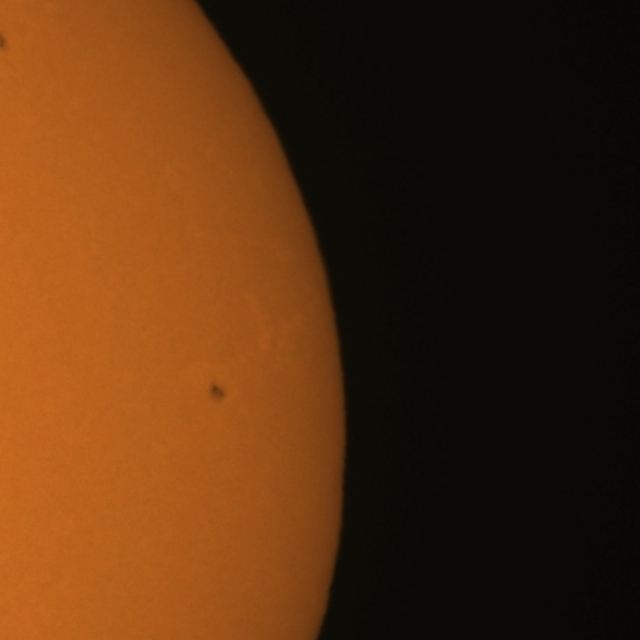sunspot: (208, 381, 228, 404), (0, 32, 9, 55)
